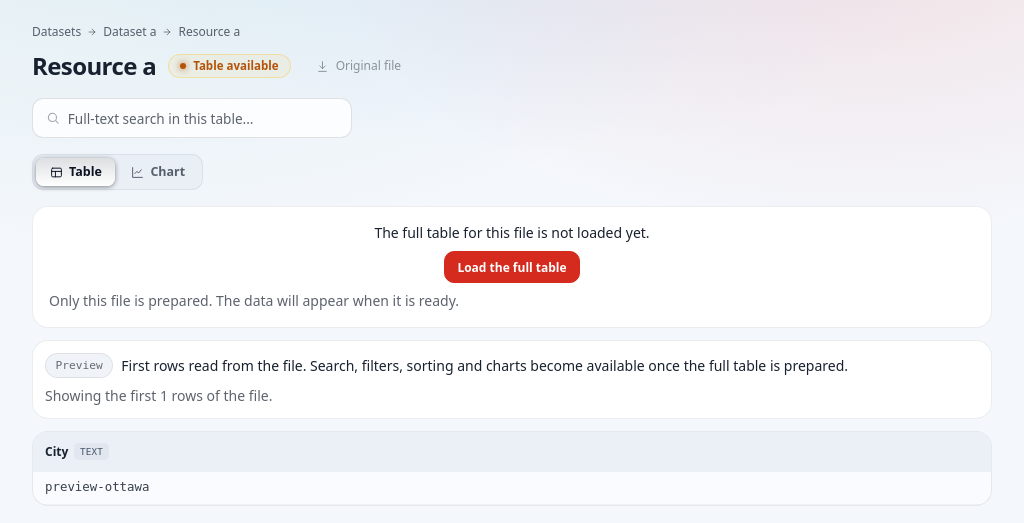
Scenario: a CSV shows its first rows at once and is prepared when the visitor asks
Check: the text "preview-ottawa" is shown, box [33,472,991,505]
Check: the text "The full table for this file is not loaded yet." is shown, box [374,223,650,242]
Click the button "Load the full table": (512, 267) [444,251,580,283]
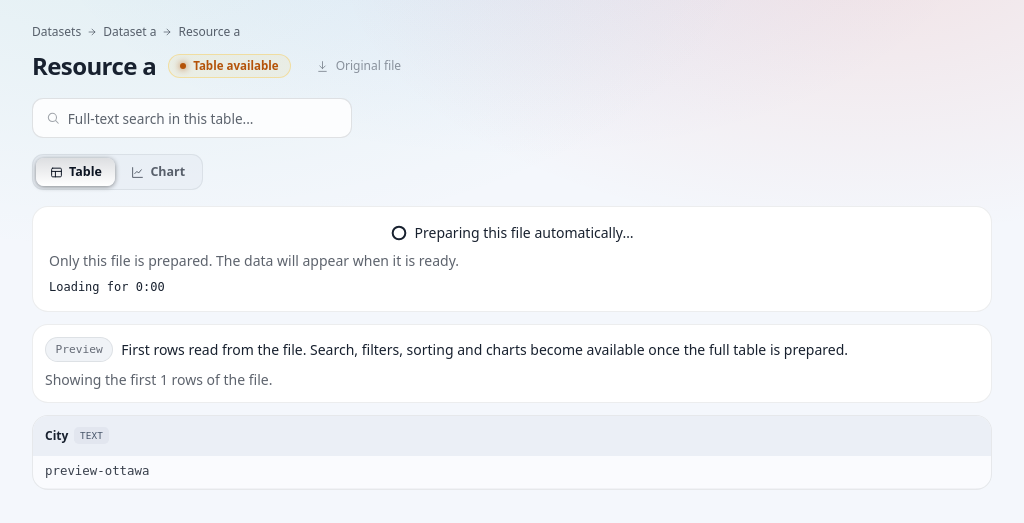
Check: the text "preview-ottawa" is shown, box [33,456,991,489]
Check: the text "Preparing this file automatically…" is shown, box [390,223,634,242]
Check: the button "Load the full table" is gone
